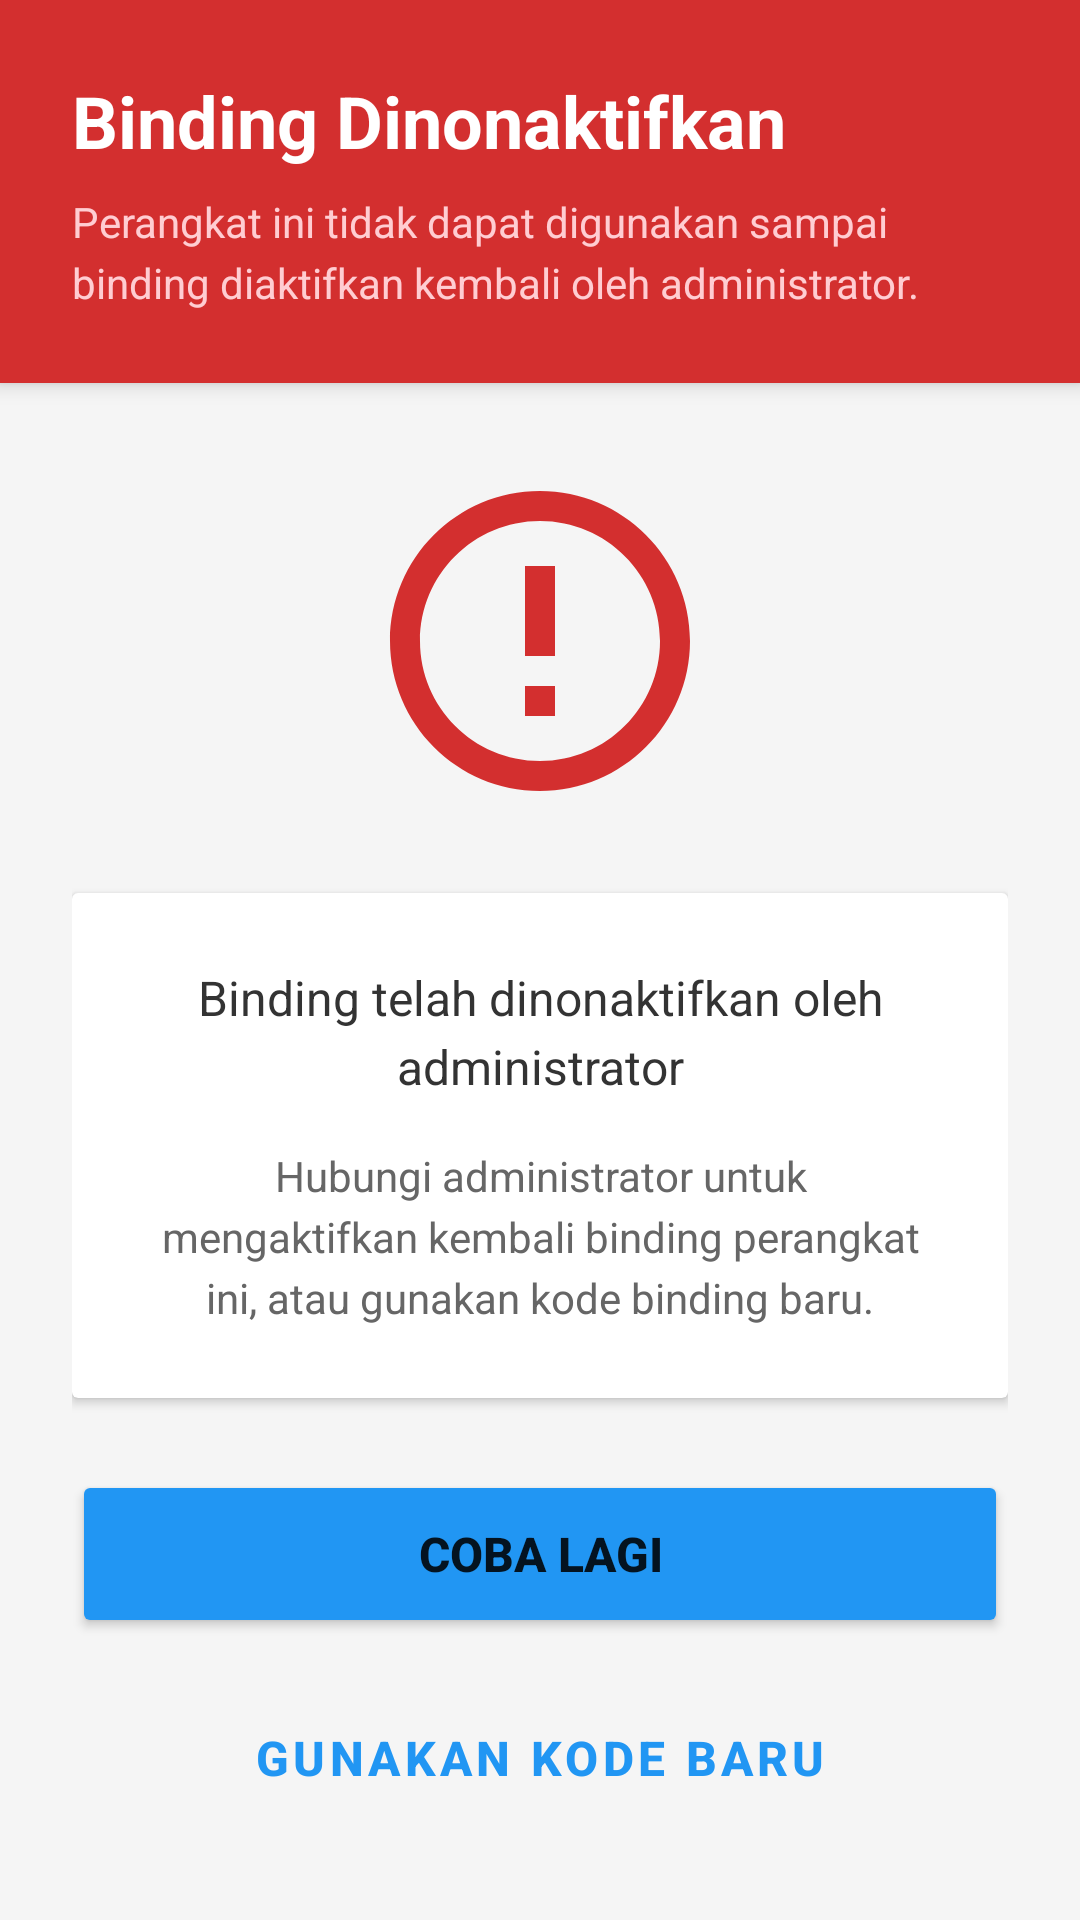

Icon click points for this 1080 x 1920 phone screenshot, format (x,y):
Error: (540,641)
